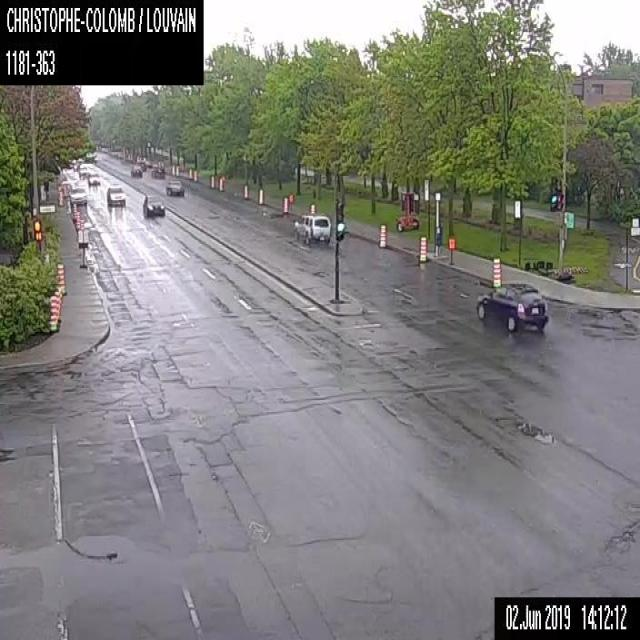construction: (396, 190, 419, 230), (78, 228, 88, 268), (56, 261, 66, 294), (49, 295, 58, 331), (491, 256, 500, 288), (418, 236, 426, 263), (53, 291, 59, 326), (378, 223, 386, 248), (56, 289, 61, 321), (448, 237, 454, 263), (57, 190, 64, 205), (282, 196, 288, 213), (257, 188, 263, 204), (75, 210, 80, 228), (289, 192, 293, 212), (309, 202, 316, 213), (218, 177, 223, 192), (243, 182, 247, 200), (73, 208, 77, 222), (210, 174, 214, 188), (72, 202, 76, 215), (188, 167, 192, 178), (80, 218, 84, 228), (193, 169, 196, 180), (171, 164, 174, 175), (175, 165, 178, 175)
vehicle: (476, 280, 548, 330), (293, 212, 331, 245), (141, 193, 164, 216), (106, 183, 125, 204), (165, 179, 184, 195), (70, 185, 86, 204), (150, 165, 164, 178), (130, 164, 142, 177), (88, 171, 100, 183), (135, 159, 146, 171), (78, 164, 88, 177)
